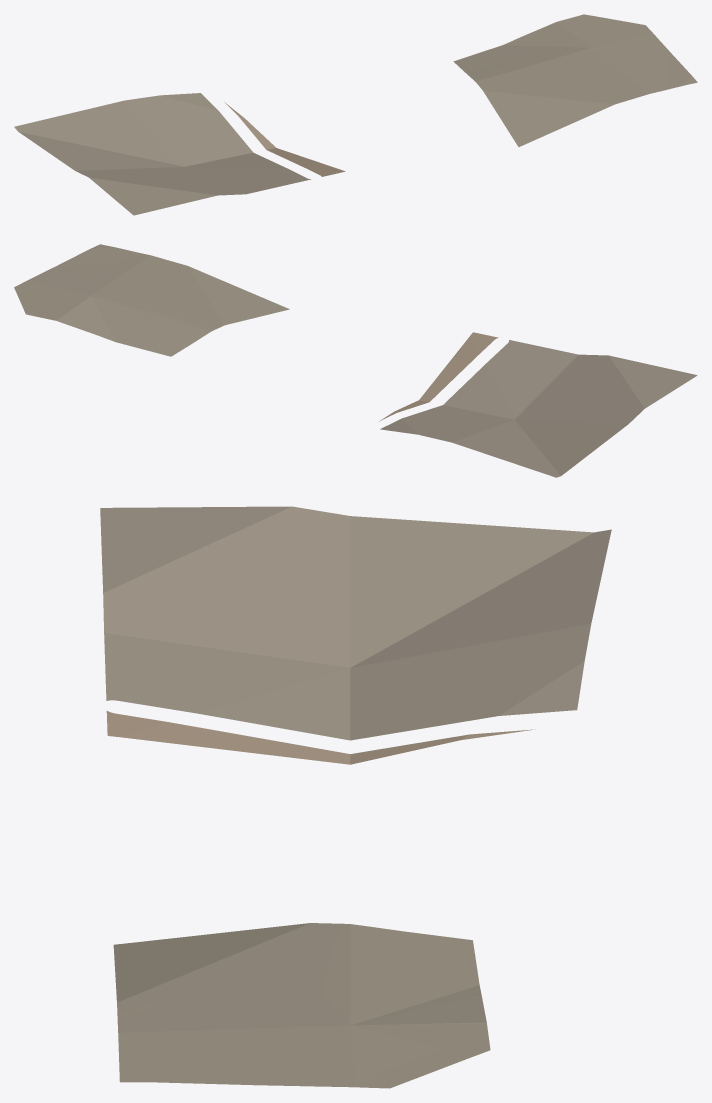
The model's file is farm_14_17_soil.glb.
The picture shows the model from 3 angles, top to bottom: view 1: azimuth 30°, elevation 25°; view 2: azimuth 150°, elevation 25°; view 3: azimuth 270°, elevation 25°; orthographic projection. The views are drawn at different scales.
Parts seen in each view (by area): view 1: geometry_0; view 2: geometry_0; view 3: geometry_0.
Boxes of the visible parts, bbox=[...] form: geometry_0: bbox=[14, 14, 697, 215]; geometry_0: bbox=[14, 244, 697, 477]; geometry_0: bbox=[100, 506, 611, 1088].
Size of the model in its own units: 345 by 17.56 by 131.
